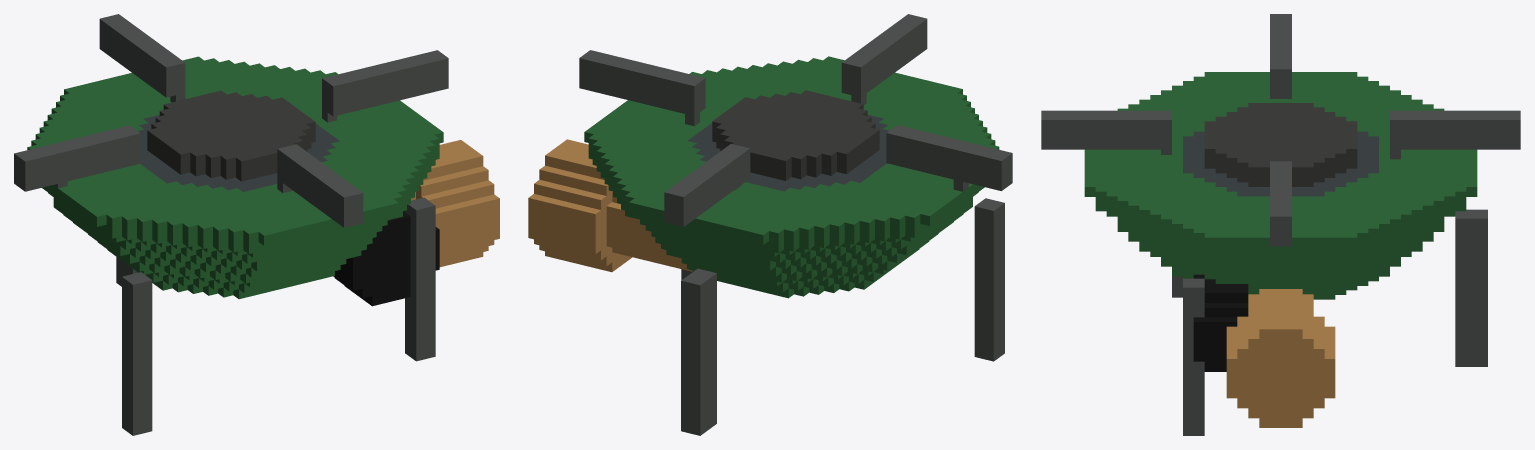
File: propane_cooker.glb
The picture shows the model from 3 angles, left to right: view 1: azimuth 30°, elevation 25°; view 2: azimuth 150°, elevation 25°; view 3: azimuth 270°, elevation 25°; orthographic projection.
Parts seen in each view (by area): view 1: propane_cooker:compound; view 2: propane_cooker:compound; view 3: propane_cooker:compound.
Boxes of the visible parts, bbox=[...] form: propane_cooker:compound: bbox=[14, 14, 499, 435]; propane_cooker:compound: bbox=[528, 14, 1012, 435]; propane_cooker:compound: bbox=[1041, 14, 1520, 435].
Size of the model in its own units: 0.188 by 0.1 by 0.176.
